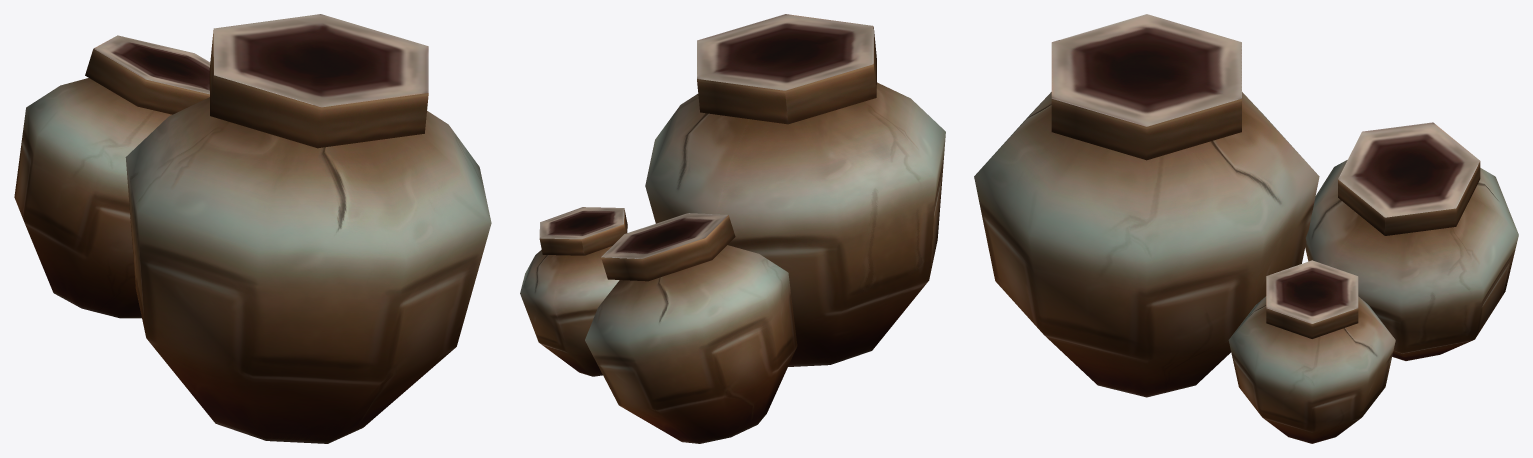
Rendered from fbxFull.gltf.
3 views of the same model, side by side, from view 1: azimuth 30°, elevation 25°; view 2: azimuth 150°, elevation 25°; view 3: azimuth 270°, elevation 25° (orthographic). The views are drawn at different scales.
Parts seen in each view (by area): view 1: vase_01, vase_02; view 2: vase_01, vase_02, vase_03; view 3: vase_01, vase_02, vase_03.
Part boxes in pixels (left/top/right/bottom): vase_01: left=125, top=14, right=491, bottom=443; vase_02: left=14, top=35, right=210, bottom=318; vase_01: left=645, top=14, right=945, bottom=366; vase_02: left=585, top=213, right=797, bottom=443; vase_03: left=520, top=207, right=627, bottom=376; vase_01: left=974, top=14, right=1319, bottom=397; vase_02: left=1305, top=122, right=1518, bottom=360; vase_03: left=1228, top=260, right=1395, bottom=443.
Size of what is drawn, in the model's own units: 0.0131 by 0.0112 by 0.0172.
1 material, 1 textured.
